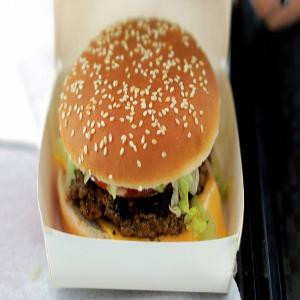cheeseburger: (42, 12, 237, 248)
